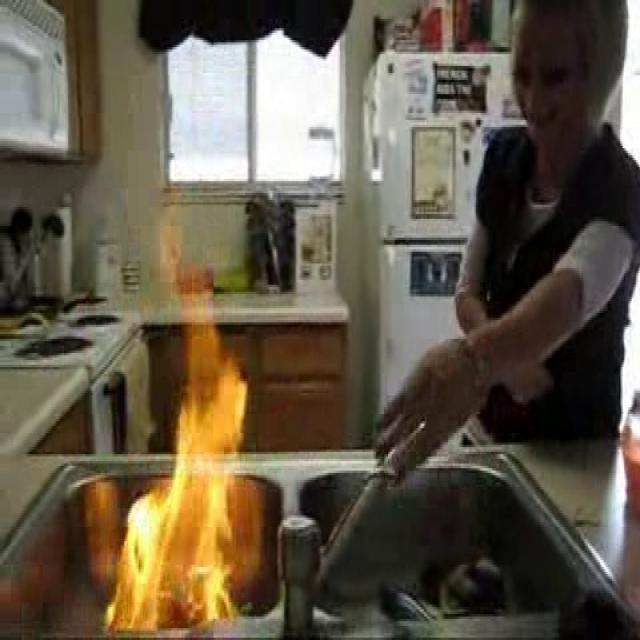Fire: (146, 304, 240, 611)
